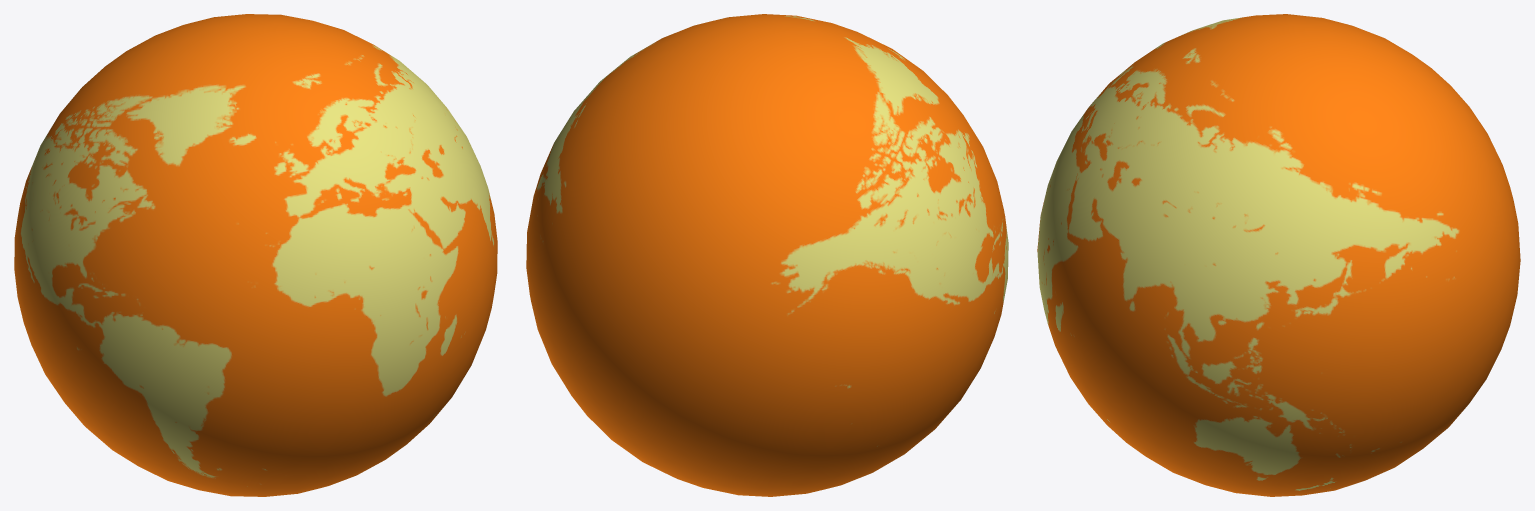
The model's file is globeSphere.gltf.
3 renders of one model, left to right at view 1: azimuth 30°, elevation 25°; view 2: azimuth 150°, elevation 25°; view 3: azimuth 270°, elevation 25°, orthographic.
Parts seen in each view (by area): view 1: Icosphere; view 2: Icosphere; view 3: Icosphere.
Part boxes in pixels (x1,y1,x2,y2): Icosphere: (14, 14, 497, 496); Icosphere: (526, 14, 1008, 496); Icosphere: (1037, 14, 1520, 496).
Size of the model in its own units: 11.8 by 11.76 by 11.79.
1 material, 1 textured.
